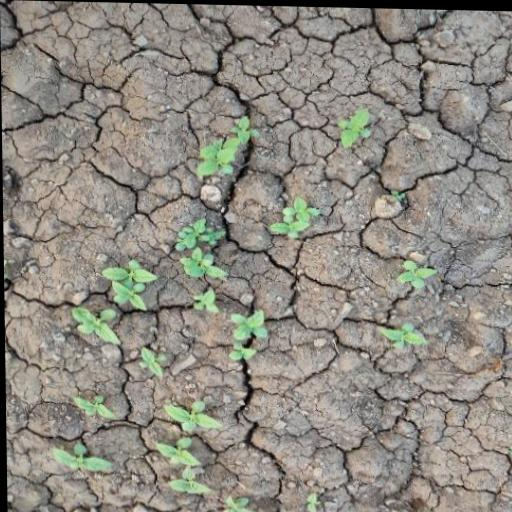crop: (61, 260, 159, 350), (189, 277, 275, 378), (149, 391, 230, 497), (169, 213, 234, 340), (46, 383, 123, 484), (372, 243, 434, 357), (188, 107, 258, 185), (330, 100, 380, 160), (267, 194, 319, 239)
